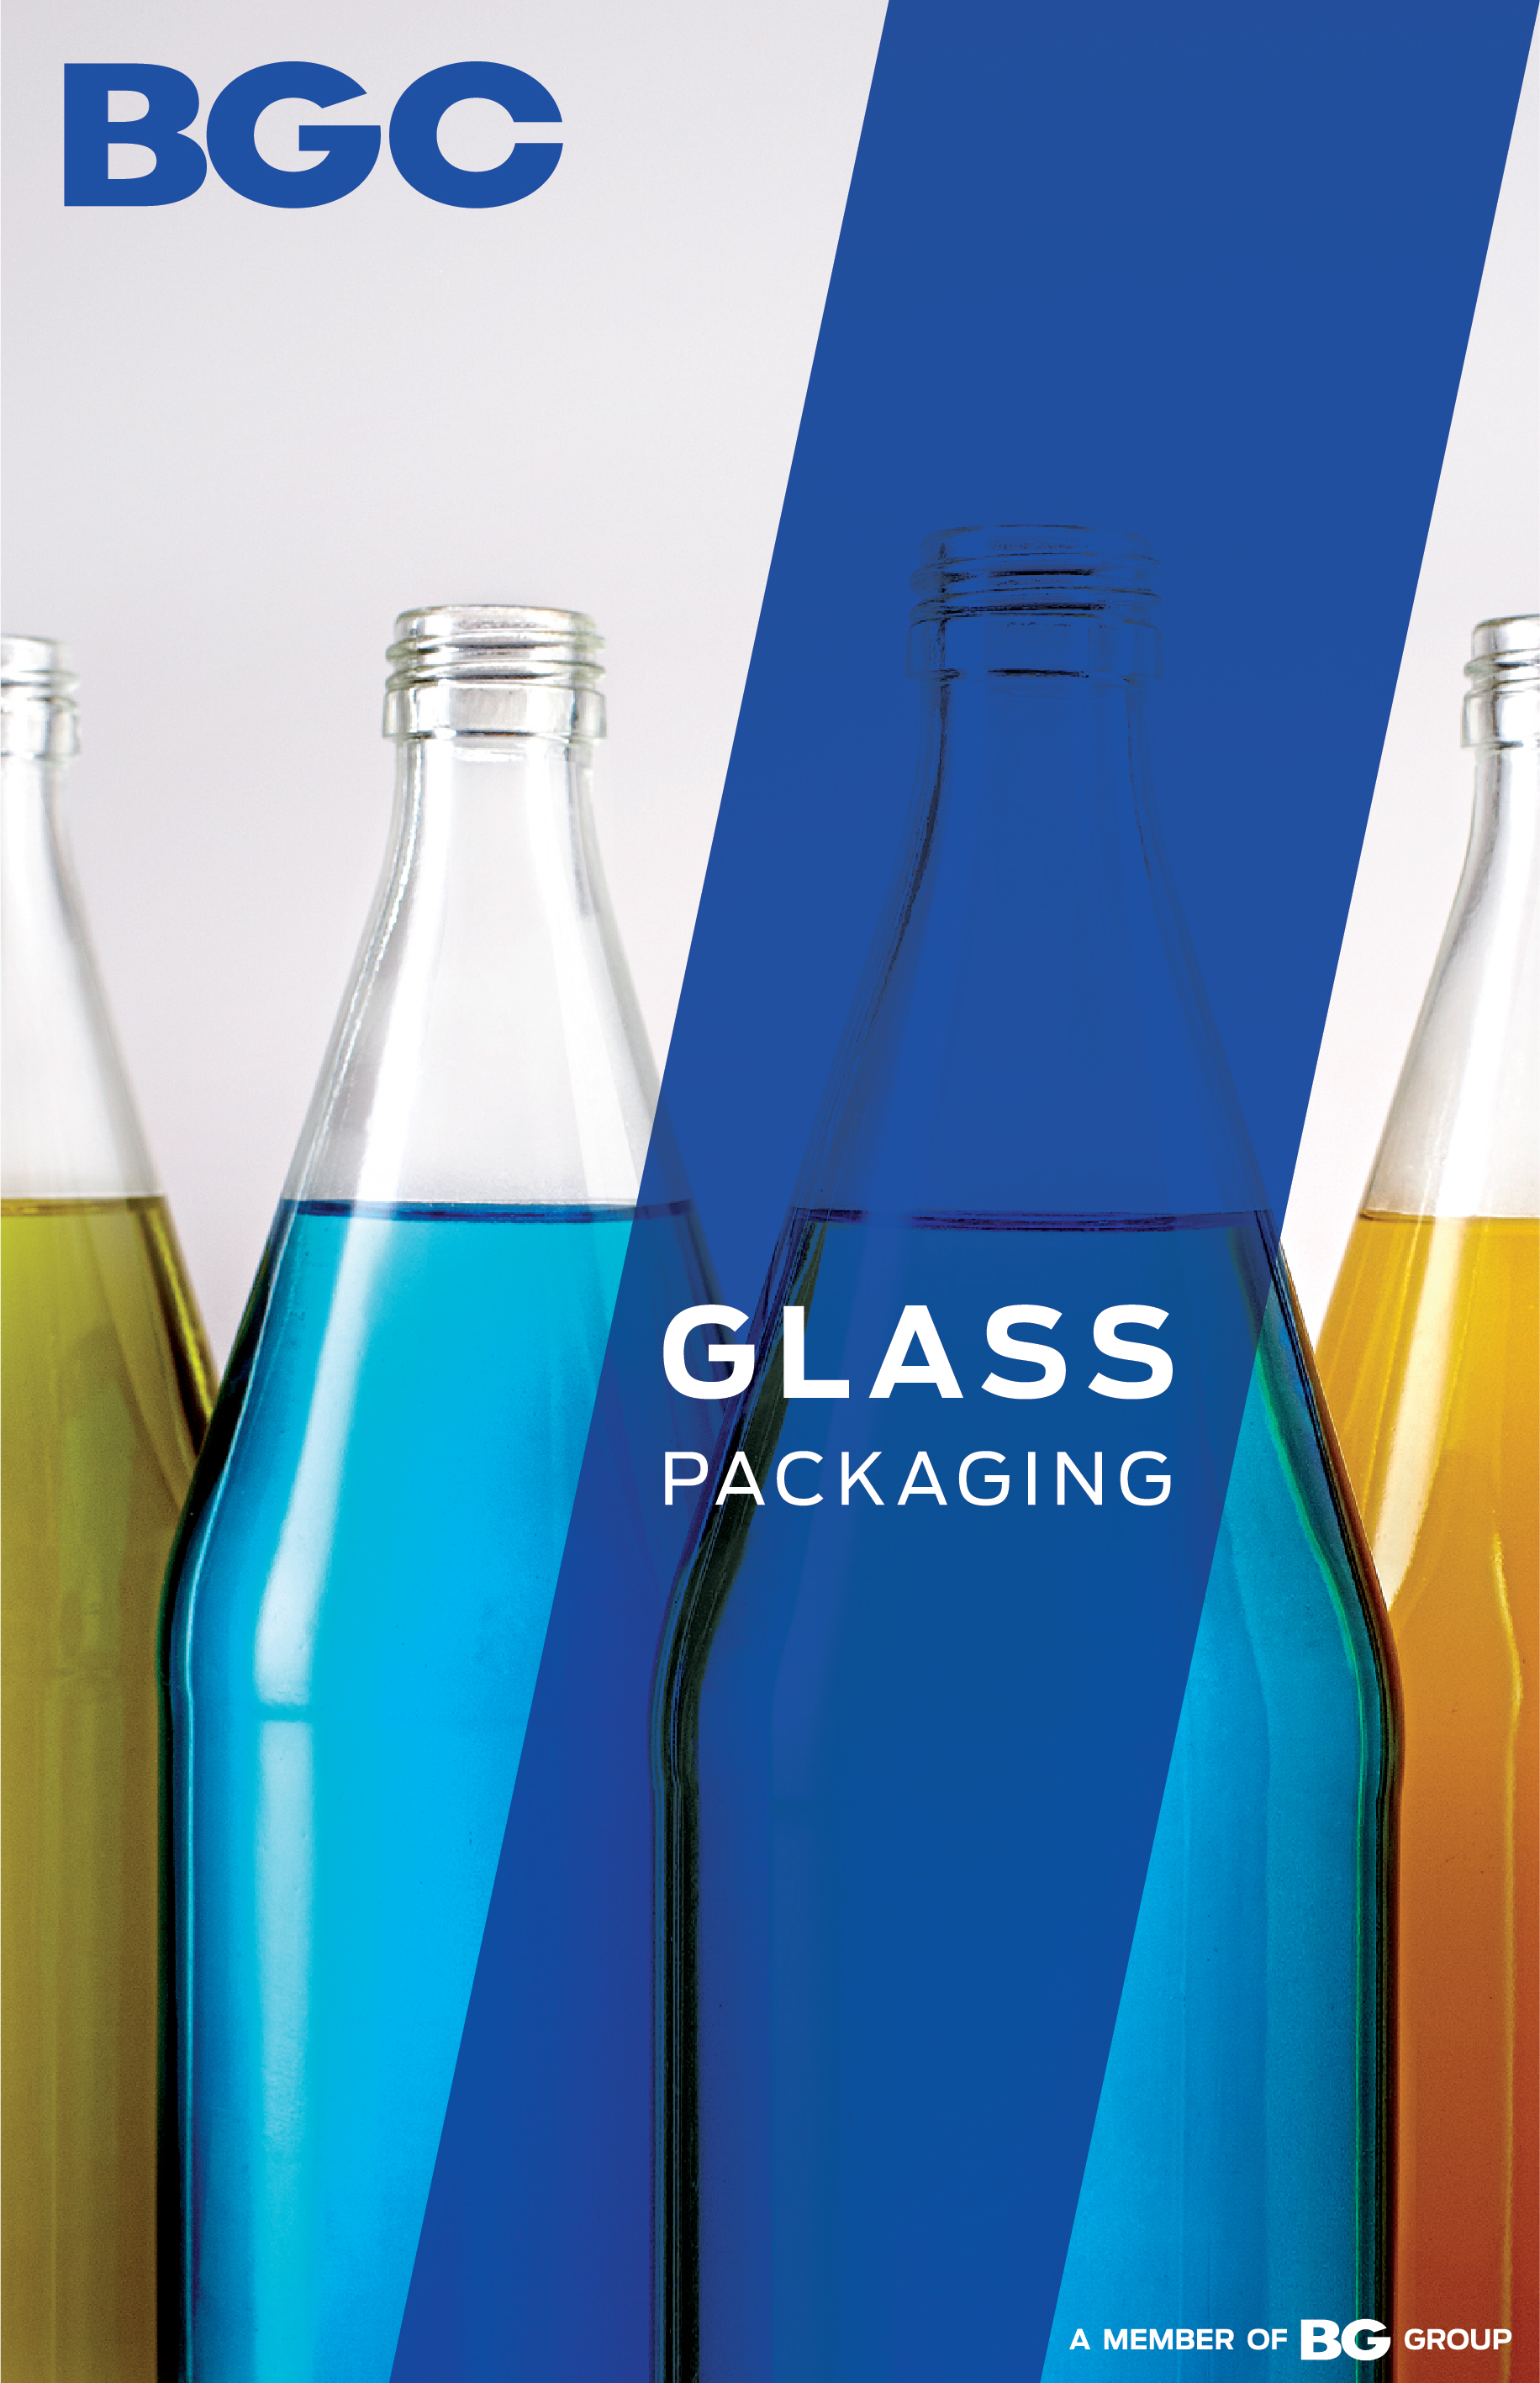glass_bottleww: (684, 370, 1422, 2383), (128, 453, 731, 2383), (0, 495, 385, 2383), (1234, 431, 1528, 2383)
